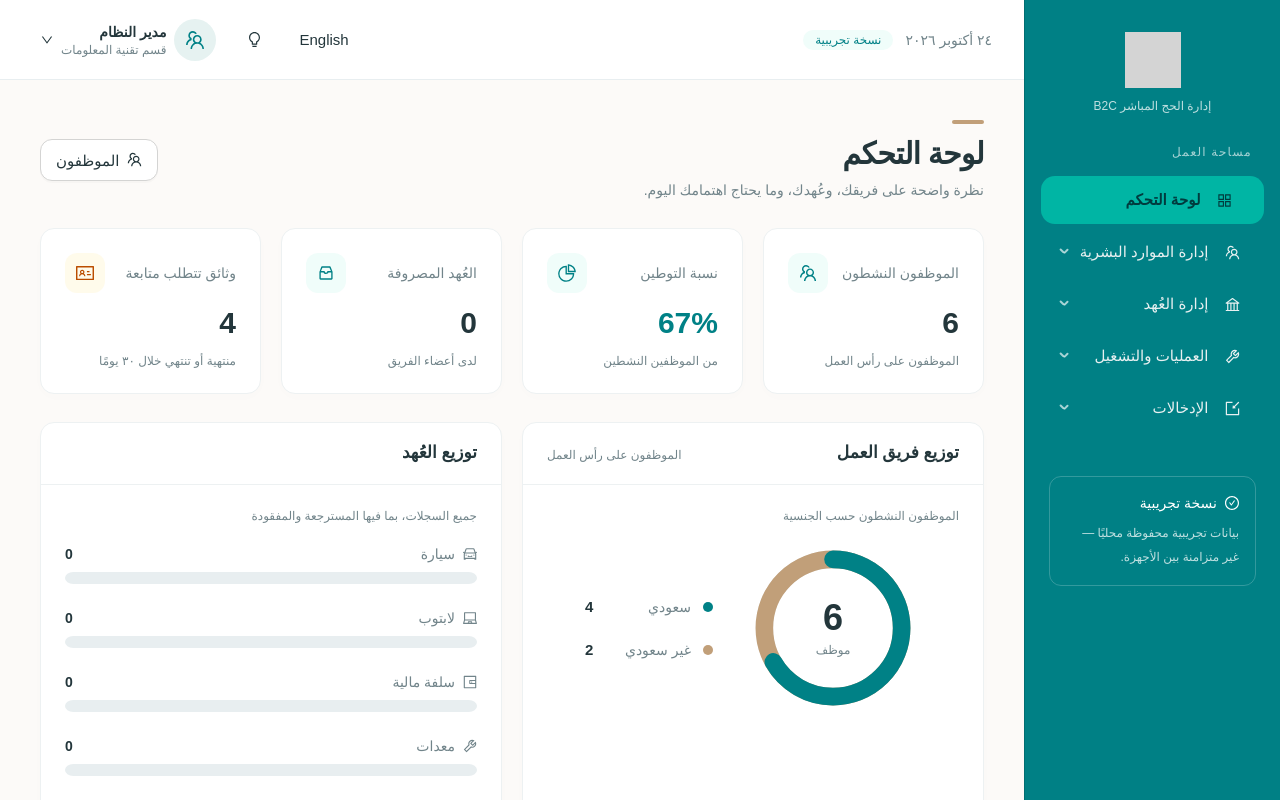
it: starter › defaults to Arabic and switches language and document direction
The width and height of the screenshot is (1280, 800).
Expected: the text "نظرة واضحة على فريقك، وعُهدك، وما يحتاج اهتمامك اليوم." is shown, [644,180,984,200]
Click the button "English" at (324, 40), box [284,18,365,60]
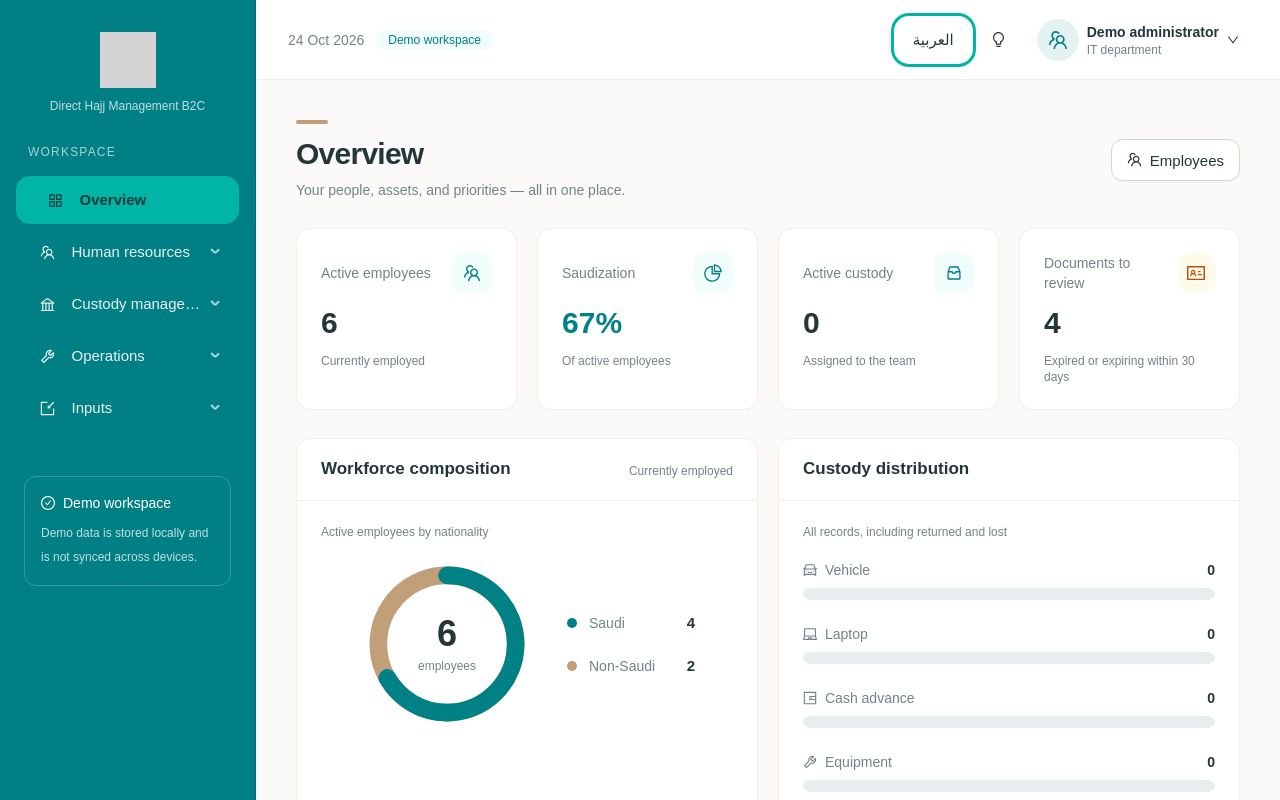
Now the text "Your people, assets, and priorities — all in one place." is shown, box [296,180,626,200]
